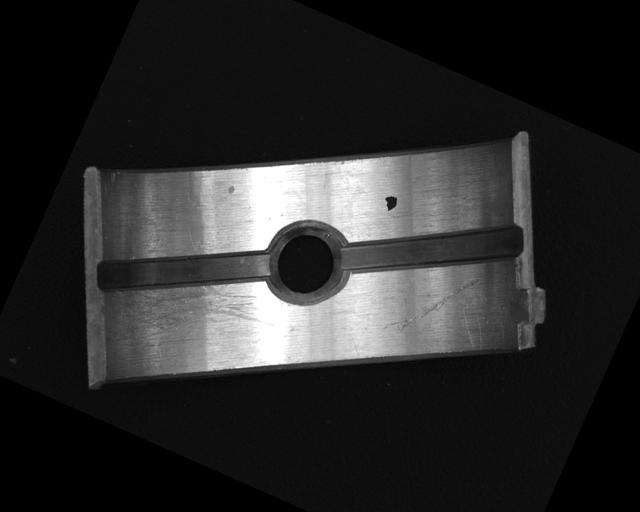blot: (379, 192, 399, 213)
bruise: (225, 183, 236, 195)
gap: (336, 165, 530, 332), (91, 193, 276, 348)
hole: (256, 212, 357, 316)
nick: (381, 250, 481, 357)
scratch: (97, 241, 279, 395)
